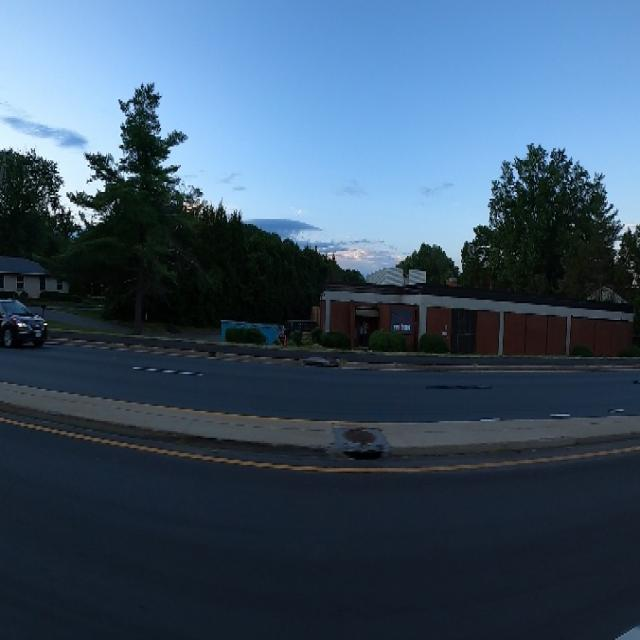cars: (0, 292, 47, 353)
